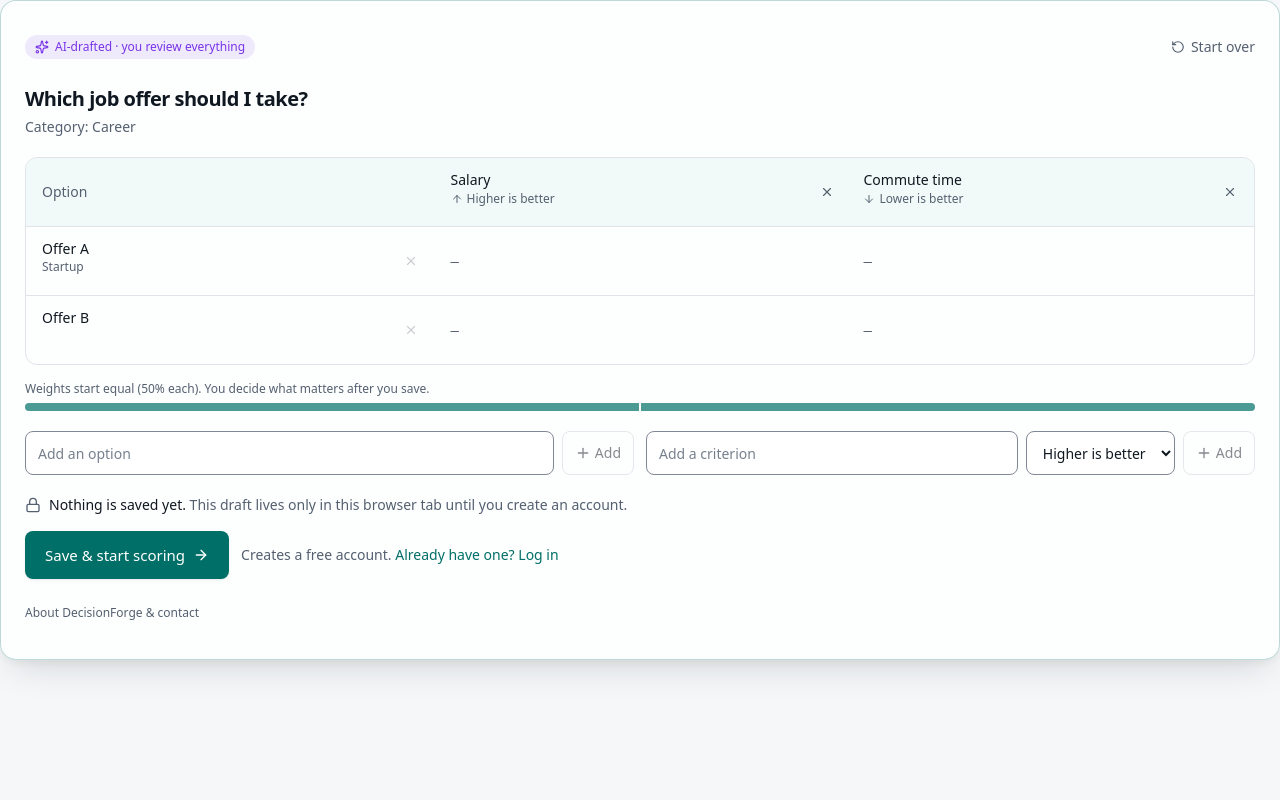
Test case: HomeDrafter › starts over by forgetting the draft
The width and height of the screenshot is (1280, 800).
Click the button "Start over".
click(1213, 47)  # box [1171,25,1255,69]
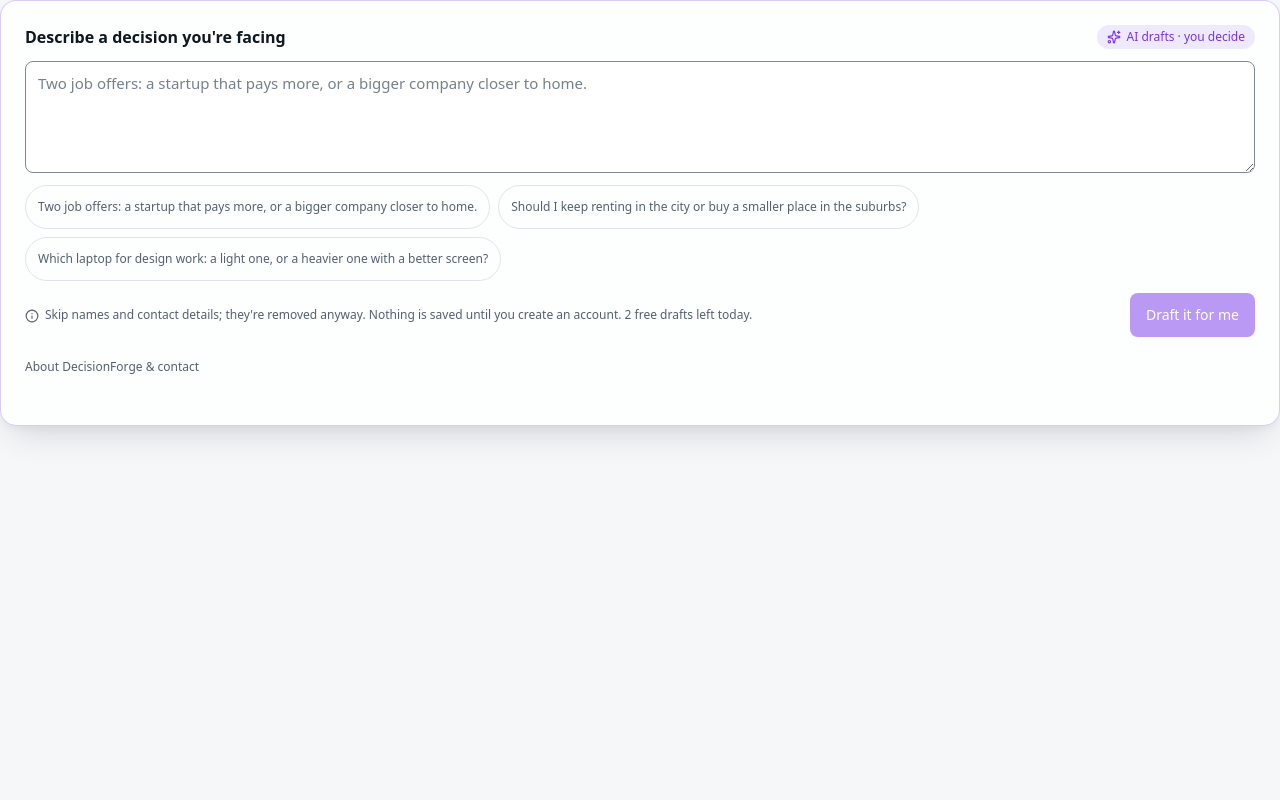
Check: the text box labelled "Describe a decision you're facing" is shown, box [25,61,1255,173]
